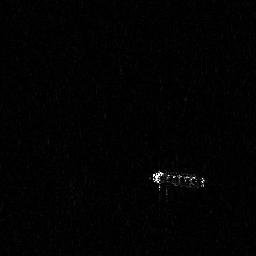ship: (148, 166, 207, 202)
